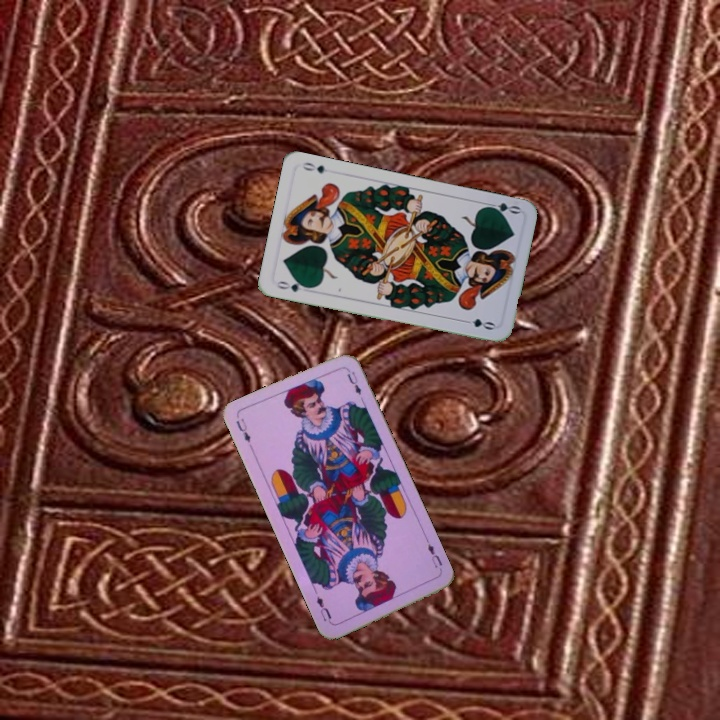EU: (423, 540, 445, 570), (232, 414, 253, 445)
GO: (481, 198, 522, 218), (273, 277, 313, 295)
